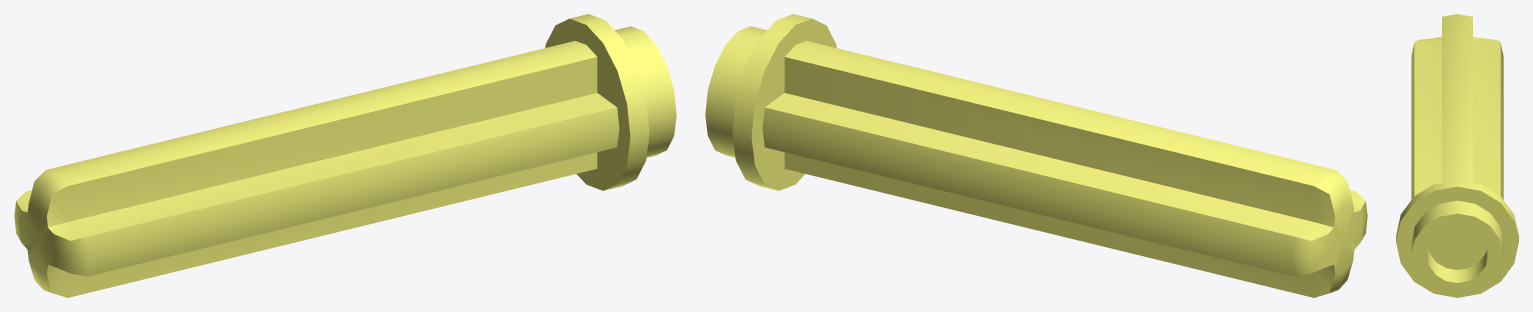
3 views of the same model, side by side, from view 1: azimuth 30°, elevation 25°; view 2: azimuth 150°, elevation 25°; view 3: azimuth 270°, elevation 25° (orthographic). The views are drawn at different scales.
Visible parts, largest first — view 1: 6587.dat; view 2: 6587.dat; view 3: 6587.dat.
Part boxes in pixels (x1=…): 6587.dat: x1=14, y1=14, x2=676, y2=297; 6587.dat: x1=705, y1=14, x2=1367, y2=297; 6587.dat: x1=1396, y1=14, x2=1518, y2=297.
Size of the model in its own units: 0.0254 by 0.0064 by 0.0064.
